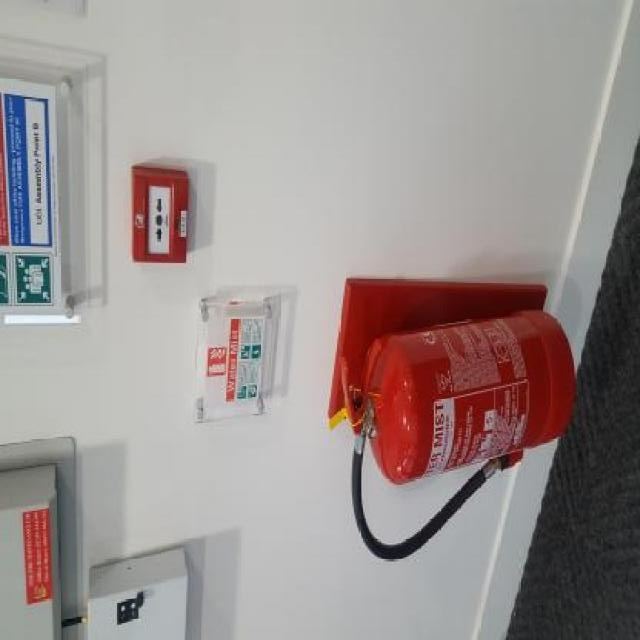fire extinguisher: (340, 304, 577, 562)
